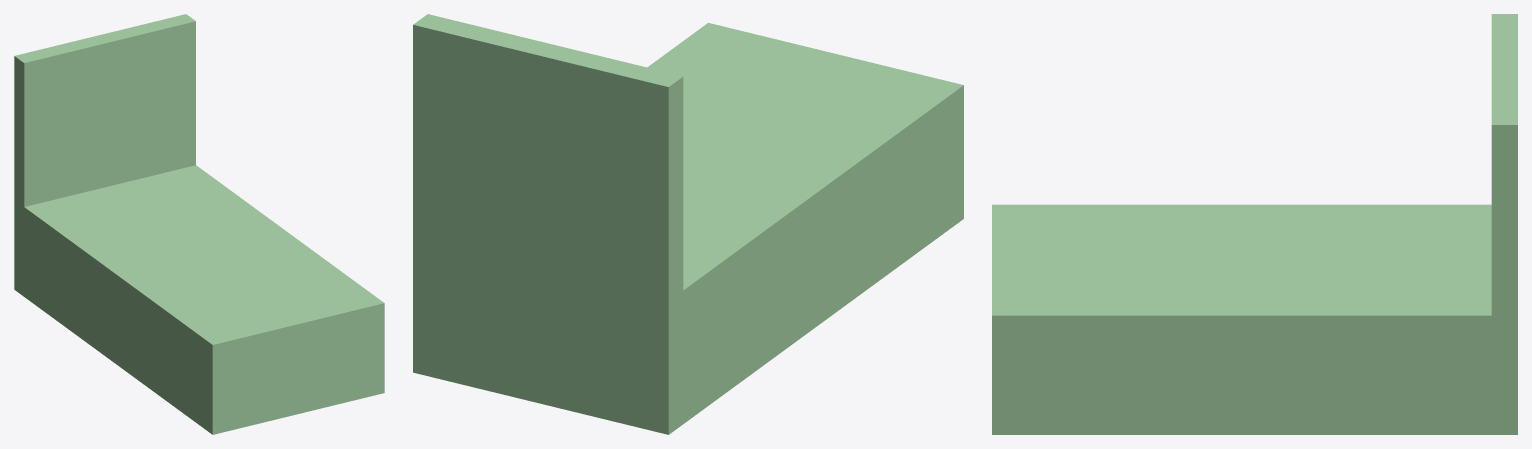
The picture shows the model from 3 angles, left to right: view 1: azimuth 30°, elevation 25°; view 2: azimuth 150°, elevation 25°; view 3: azimuth 270°, elevation 25°; orthographic projection. The views are drawn at different scales.
Parts seen in each view (by area): view 1: mattress, headboard; view 2: mattress, headboard; view 3: mattress, headboard.
Boxes of the visible parts, x1=… form: mattress: x1=14, y1=165, x2=384, y2=434; headboard: x1=14, y1=14, x2=195, y2=206; mattress: x1=413, y1=22, x2=963, y2=434; headboard: x1=413, y1=14, x2=683, y2=300; mattress: x1=992, y1=204, x2=1517, y2=434; headboard: x1=1491, y1=14, x2=1517, y2=315.
Size of the model in its own units: 1 by 1.3 by 2.
